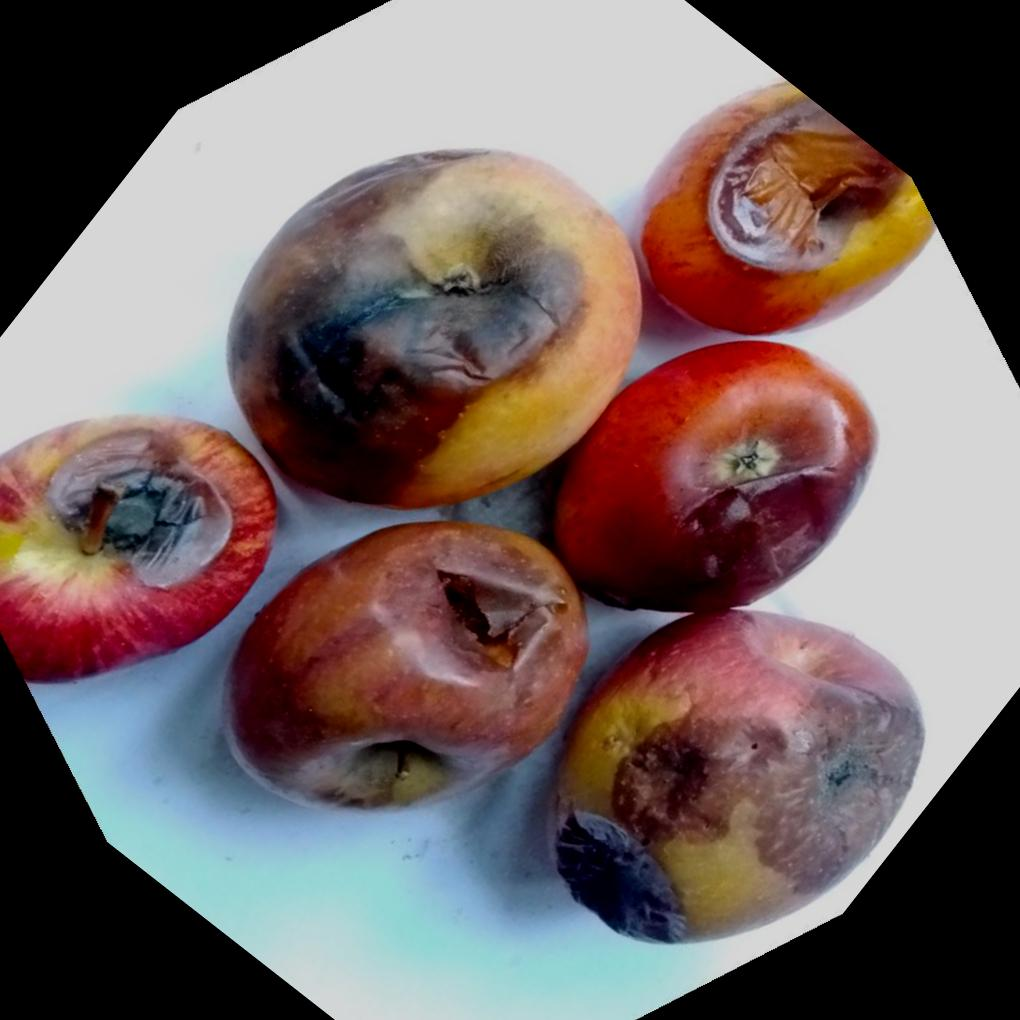FreshOrange: (225, 77, 935, 508), (549, 344, 926, 942), (222, 515, 591, 810), (0, 410, 281, 682)
